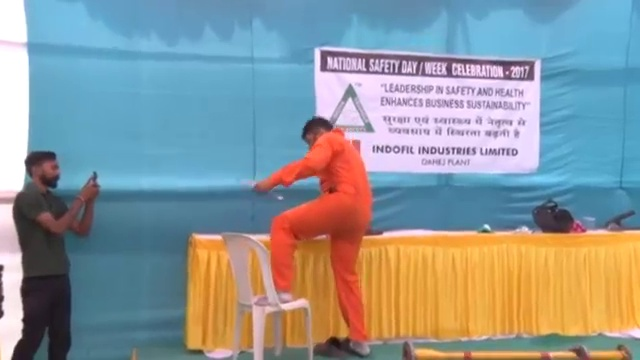helmet_off: (23, 151, 60, 191), (300, 116, 335, 150)
person: (255, 115, 372, 355), (7, 152, 103, 360)
